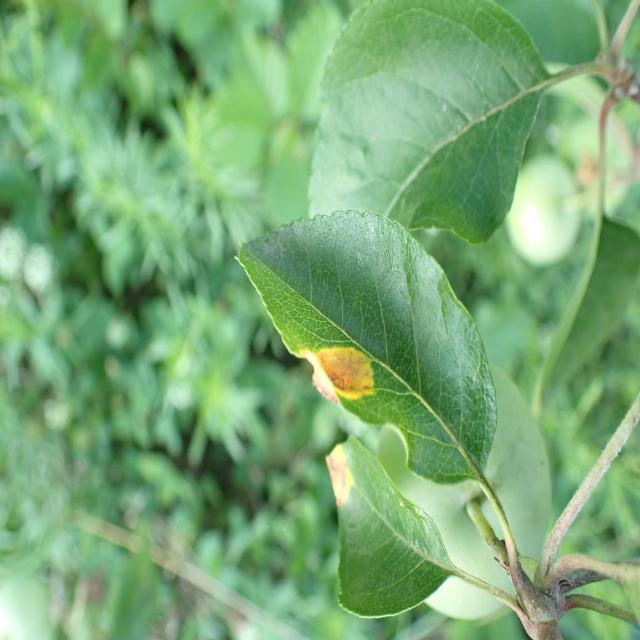Rust: (282, 324, 370, 433), (307, 440, 370, 508)
